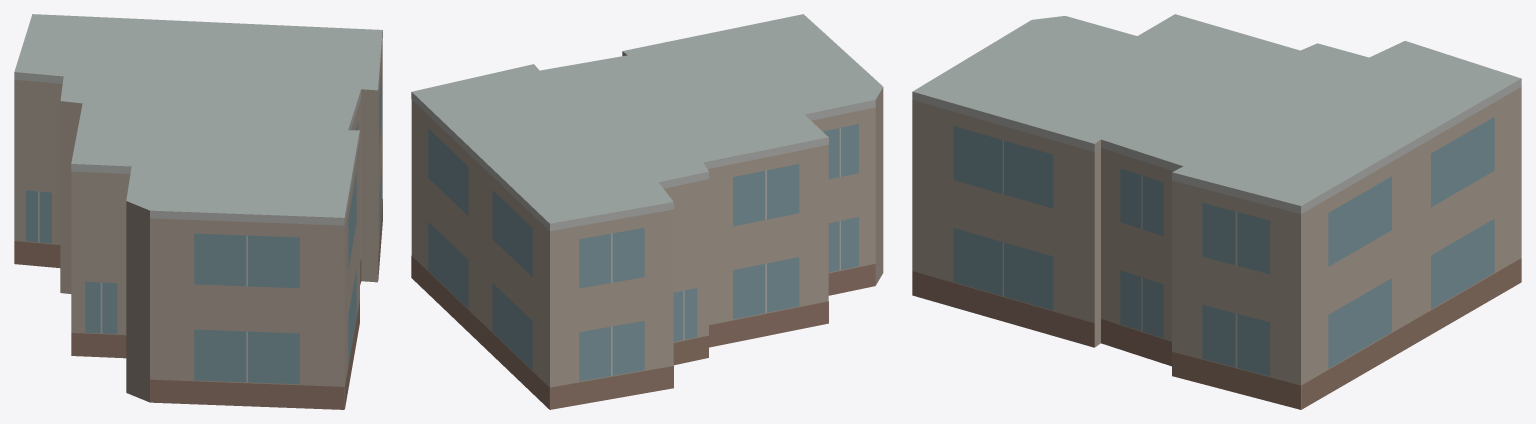
The model's file is survey-upis-33016795.glb.
3 views of the same model, side by side, from view 1: azimuth 30°, elevation 25°; view 2: azimuth 150°, elevation 25°; view 3: azimuth 270°, elevation 25° (orthographic). The views are drawn at different scales.
Parts seen in each view (by area): view 1: survey-upis-33016795.tmp; view 2: survey-upis-33016795.tmp; view 3: survey-upis-33016795.tmp.
Boxes of the visible parts, x1,y1,x2,y2 form: survey-upis-33016795.tmp: [14, 14, 382, 409]; survey-upis-33016795.tmp: [411, 14, 883, 409]; survey-upis-33016795.tmp: [912, 14, 1521, 409].
Size of the model in its own units: 12.34 by 6.1 by 16.54.
